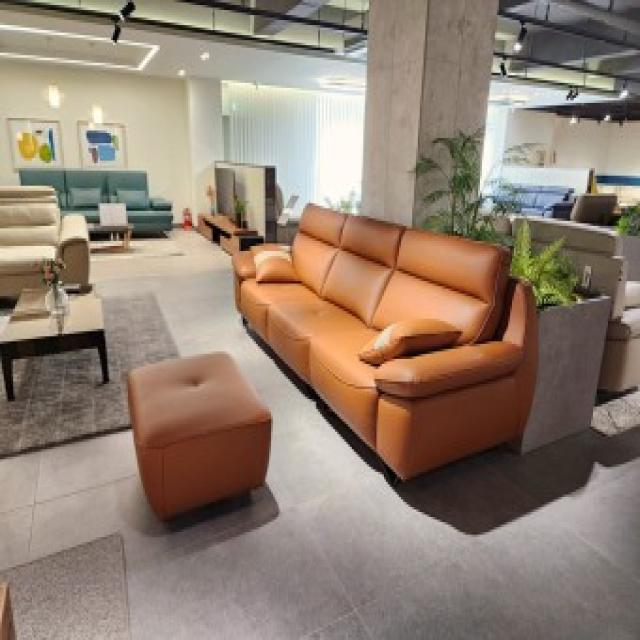Sofa: (240, 200, 536, 475), (124, 347, 276, 521), (25, 161, 168, 236), (6, 189, 86, 285)
Table: (7, 277, 108, 393)
